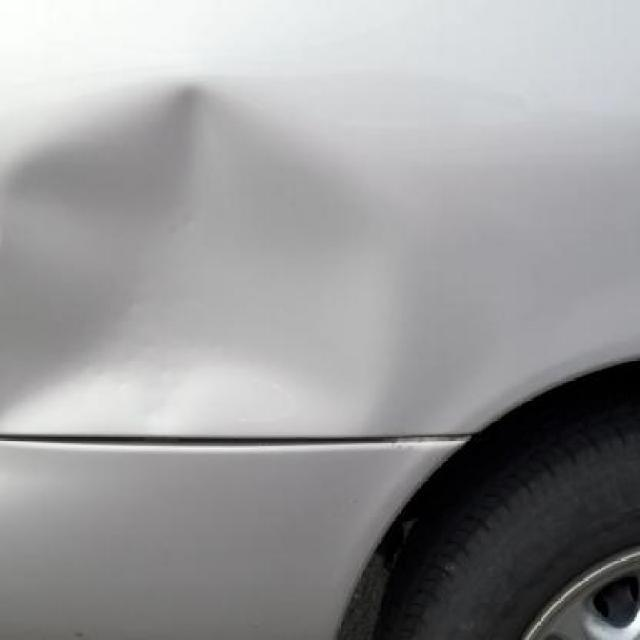dent: (1, 88, 388, 429)
